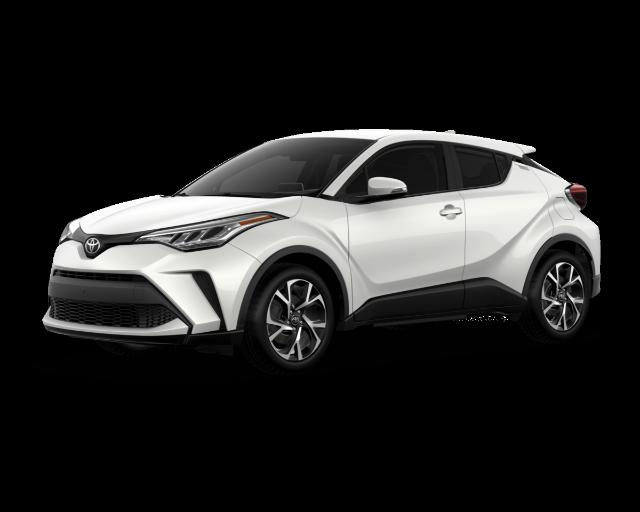toyota: (41, 130, 602, 374)
